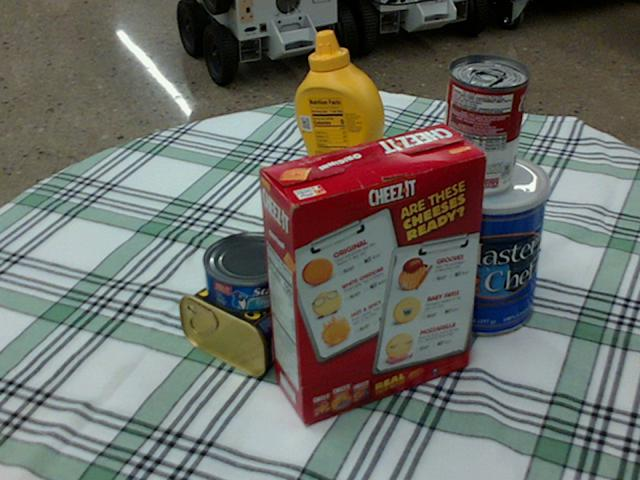cracker_box: (258, 123, 486, 424)
gelatin_box: (284, 177, 370, 245)
master_chef_can: (426, 150, 550, 335)
mug: (289, 213, 397, 331)
mustard_bottle: (293, 31, 398, 221)
potted_meat_can: (181, 261, 322, 376)
sugar_box: (348, 166, 506, 290)
tomato_soup_can: (439, 55, 527, 194)
tuna_fish_can: (203, 231, 299, 313)
